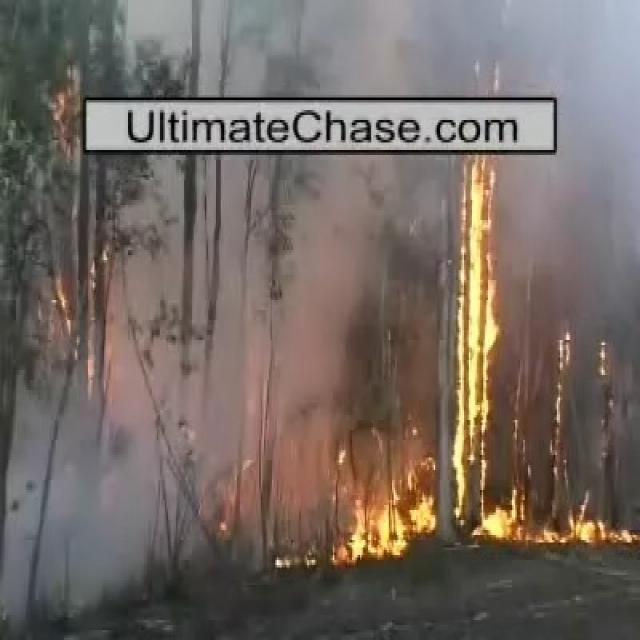fire: (456, 163, 497, 519), (354, 486, 436, 559)
smoke: (19, 410, 97, 602), (516, 7, 631, 91)
